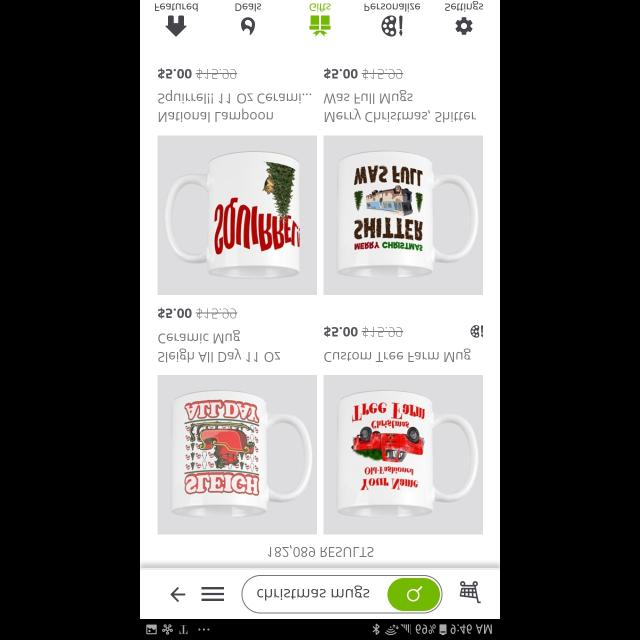icon: (388, 578, 440, 610), (459, 580, 481, 604), (309, 15, 331, 37), (166, 16, 187, 36), (202, 586, 224, 602), (455, 17, 473, 35), (170, 586, 186, 602)
image: (158, 135, 318, 295), (324, 135, 484, 295), (324, 374, 484, 534), (158, 374, 318, 534), (382, 15, 402, 37), (241, 17, 255, 35), (470, 324, 484, 338)
input: (242, 574, 442, 614)
text: (158, 90, 312, 122), (324, 90, 476, 122), (159, 330, 281, 362), (325, 348, 471, 362), (258, 584, 370, 600), (268, 544, 374, 556), (324, 68, 404, 80), (324, 326, 404, 338), (158, 307, 238, 319), (158, 68, 238, 78), (445, 0, 483, 12), (364, 4, 420, 12), (156, 3, 198, 11), (236, 4, 262, 12), (310, 4, 330, 12)
uppertaskbar: (140, 618, 500, 640)
